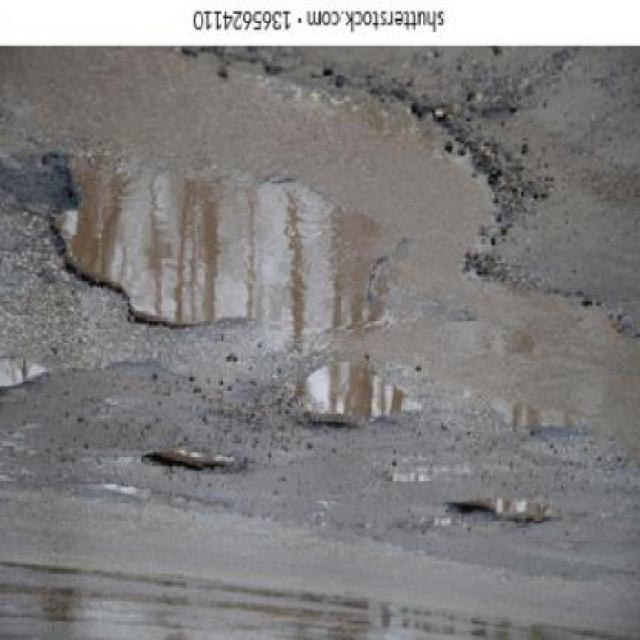pothole: (36, 142, 390, 332), (277, 348, 428, 432), (441, 484, 557, 536), (132, 436, 246, 487)
